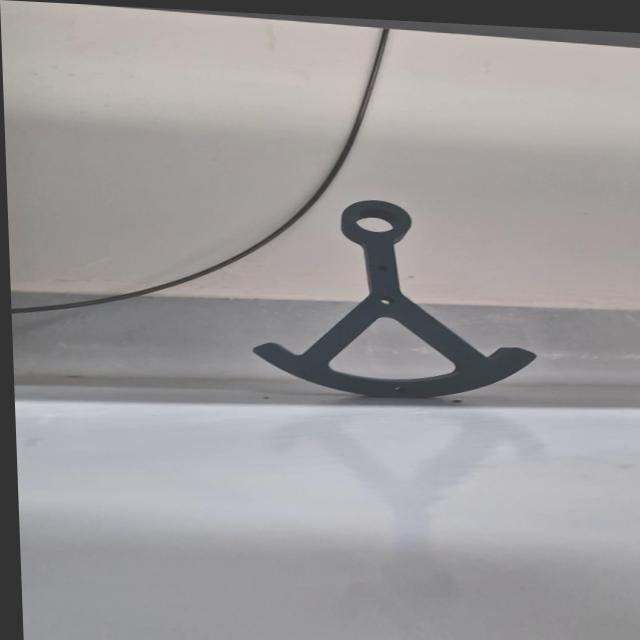haptic: (246, 193, 540, 406)
